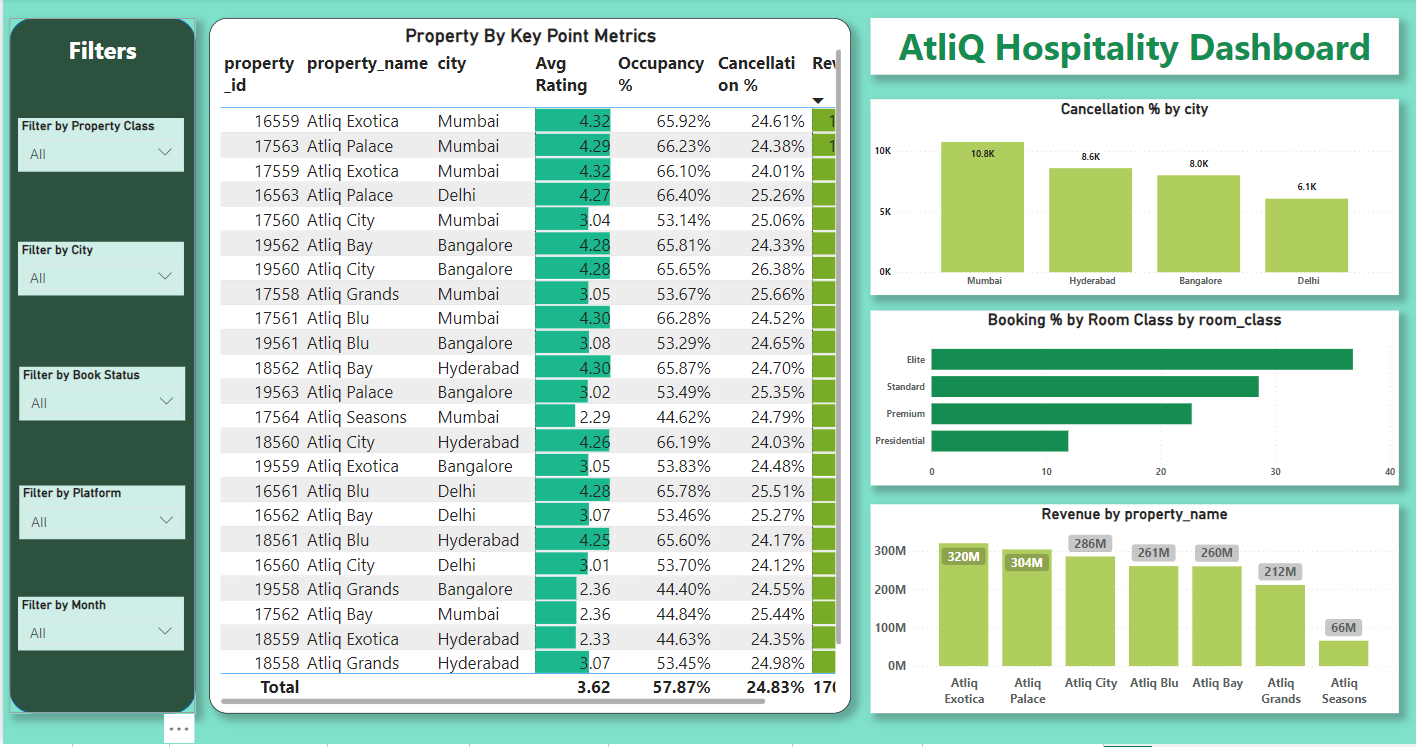

The page's visual inventory and layout, read from the dashboard file:
{"tool":"powerbi","page":{"name":"Page 2","canvas":[1900,1000],"ordinal":1},"visuals":[{"type":"shape","box":[8,26,250,932],"z":0},{"type":"slicer","title":"Filter by Property Class","fields":{"Values":["dim_rooms.room_class"]},"box":[20,160,222,72],"z":1000},{"type":"slicer","title":"Filter by City","fields":{"Values":["dim_hotels.city"]},"box":[20,326,222,72],"z":2000},{"type":"slicer","title":"Filter by Book Status","fields":{"Values":["fact_bookings.booking_status"]},"box":[22,494,222,72],"z":3000},{"type":"slicer","title":"Filter by Platform","fields":{"Values":["fact_bookings.booking_platform"]},"box":[22,654,222,72],"z":4000},{"type":"slicer","title":"Filter by Month","fields":{"Values":["dim_date.date.Variation.Date Hierarchy.Month"]},"box":[20,802,222,72],"z":5000},{"type":"tableEx","title":"Property By Key Point Metrics","fields":{"Values":["dim_hotels.property_id","dim_hotels.property_name","dim_hotels.city","Measure Table.Avg Rating","Measure Table.Occupancy %","Measure Table.Cancellation %","Measure Table.Revenue"]},"box":[276,26,860,932],"z":6000},{"type":"clusteredBarChart","fields":{"Y":["Measure Table.Booking % by Room Class"],"Category":["dim_rooms.room_class"]},"box":[1162,418,708,234],"z":7000},{"type":"columnChart","fields":{"Category":["dim_hotels.property_name"],"Y":["Measure Table.Revenue"]},"box":[1162,678,708,280],"z":8000},{"type":"textbox","box":[36,42,196,74],"z":9000},{"type":"textbox","box":[1162,26,708,76],"z":9001},{"type":"columnChart","title":"Cancellation % by city","fields":{"Y":["Measure Table.Total Cancelled Bookings"],"Category":["dim_hotels.city"]},"box":[1162,136,708,262],"z":9002}]}

Visuals, with their boxes in screenshot pixels (x1, y1, x2, y2), scaled from the page's 1900x1000 canvas onto the 1416x747 screenshot:
shape: [6, 19, 192, 716]
"Filter by Property Class" slicer: [15, 120, 180, 173]
"Filter by City" slicer: [15, 244, 180, 297]
"Filter by Book Status" slicer: [16, 369, 182, 423]
"Filter by Platform" slicer: [16, 489, 182, 542]
"Filter by Month" slicer: [15, 599, 180, 653]
"Property By Key Point Metrics" tableEx: [206, 19, 847, 716]
clusteredBarChart - Measure Table.Booking % by Room Class x dim_rooms.room_class: [866, 312, 1394, 487]
columnChart - dim_hotels.property_name x Measure Table.Revenue: [866, 506, 1394, 716]
textbox: [27, 31, 173, 87]
textbox: [866, 19, 1394, 76]
"Cancellation % by city" columnChart: [866, 102, 1394, 297]
